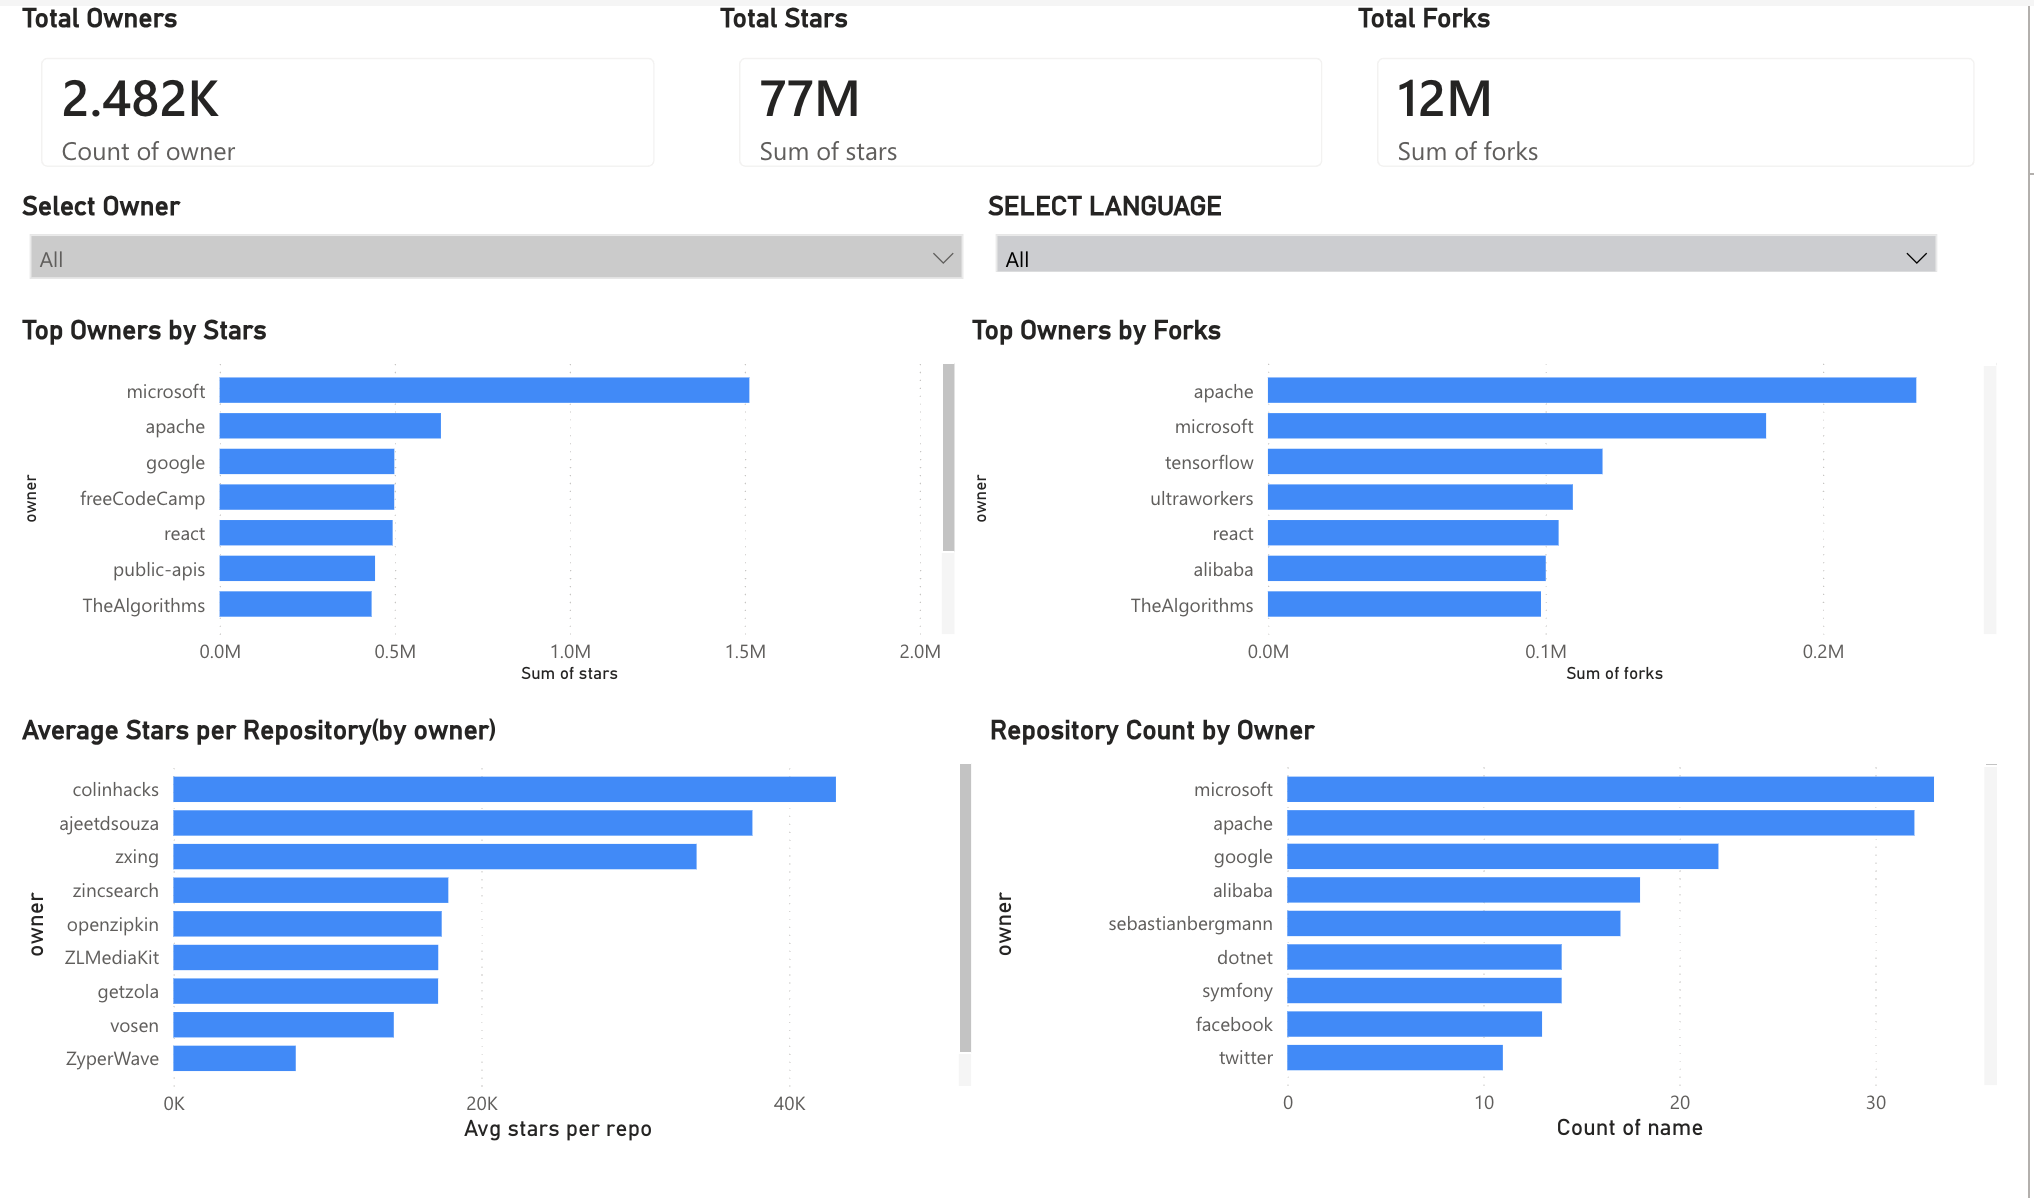

What the dashboard file says about the page in this screenshot:
{"tool":"powerbi","page":{"name":"Owner Intelligence","canvas":[1280,720],"ordinal":3},"visuals":[{"type":"cardVisual","title":"Total Owners","fields":{"Data":["Count(github_1000_repos.owner)"]},"box":[10.7,0,421.1,119],"z":0},{"type":"cardVisual","title":"Total Stars","fields":{"Data":["Sum(github_1000_repos.stars)"]},"box":[450.1,0,402.8,119],"z":1000},{"type":"cardVisual","title":"Total Forks","fields":{"Data":["Sum(github_1000_repos.forks)"]},"box":[852.8,0,411.9,119],"z":2000},{"type":"clusteredBarChart","title":"Average Stars per Repository(by owner)","fields":{"Category":["github_1000_repos.owner"],"Y":["github_repos.Avg stars per repo"]},"box":[10.7,448.5,608.7,271.6],"z":3000},{"type":"clusteredBarChart","title":"Top Owners by Stars","fields":{"Category":["github_1000_repos.owner"],"Y":["Sum(github_1000_repos.stars)"]},"box":[10.7,196.8,598,234.9],"z":4000},{"type":"clusteredBarChart","title":"Top Owners by Forks","fields":{"Category":["github_1000_repos.owner"],"Y":["Sum(github_1000_repos.forks)"]},"box":[608.7,196.8,656,234.9],"z":5000},{"type":"slicer","title":"Select Owner","fields":{"Values":["github_1000_repos.owner"]},"box":[10.7,119,608.7,77.8],"z":6000},{"type":"slicer","title":"SELECT LANGUAGE","fields":{"Values":["github_1000_repos.language"]},"box":[619.4,119,613.3,48.8],"z":6002},{"type":"clusteredBarChart","title":"Repository Count by Owner","fields":{"Category":["github_repos.owner"],"Y":["Count(github_repos.name)"]},"box":[620,449,645,271],"z":6003}]}

Visuals, with their boxes on the page's 1280x720 design canvas (x1, y1, x2, y2). These are canvas units, not pixel positions in the 2034x1198 screenshot, which may show the page scaled, cropped or inside an application window:
"Total Owners" cardVisual: locate(11, 0, 432, 119)
"Total Stars" cardVisual: locate(450, 0, 853, 119)
"Total Forks" cardVisual: locate(853, 0, 1265, 119)
"Average Stars per Repository(by owner)" clusteredBarChart: locate(11, 448, 619, 720)
"Top Owners by Stars" clusteredBarChart: locate(11, 197, 609, 432)
"Top Owners by Forks" clusteredBarChart: locate(609, 197, 1265, 432)
"Select Owner" slicer: locate(11, 119, 619, 197)
"SELECT LANGUAGE" slicer: locate(619, 119, 1233, 168)
"Repository Count by Owner" clusteredBarChart: locate(620, 449, 1265, 720)
